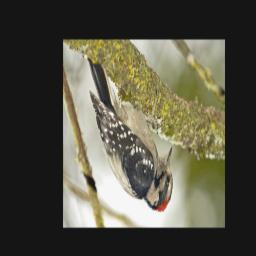Woodpecker: (80, 52, 173, 215)
